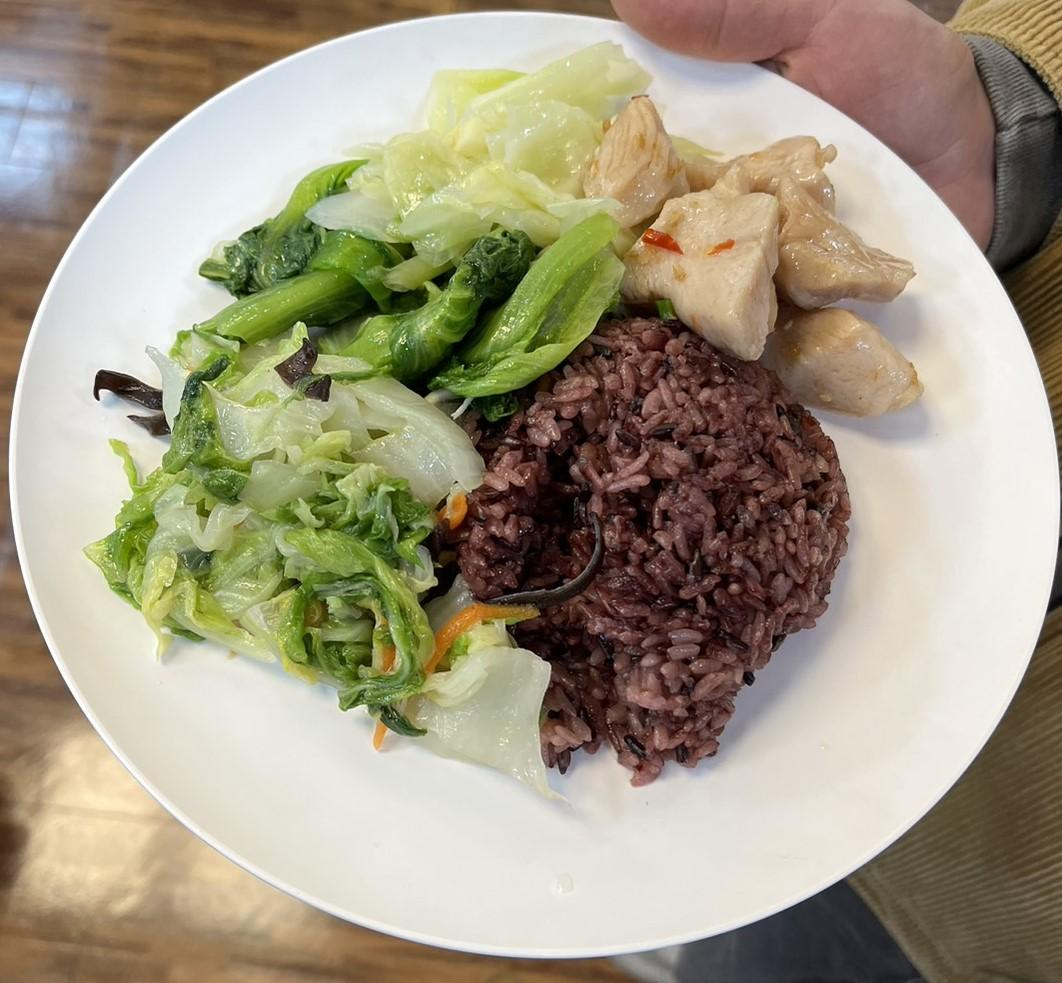big fried chicken leg: (8, 6, 1058, 969)
braised fish fillet: (74, 330, 557, 799), (463, 313, 857, 775), (156, 174, 618, 384), (314, 22, 648, 240)
braised pork: (584, 94, 923, 425)
